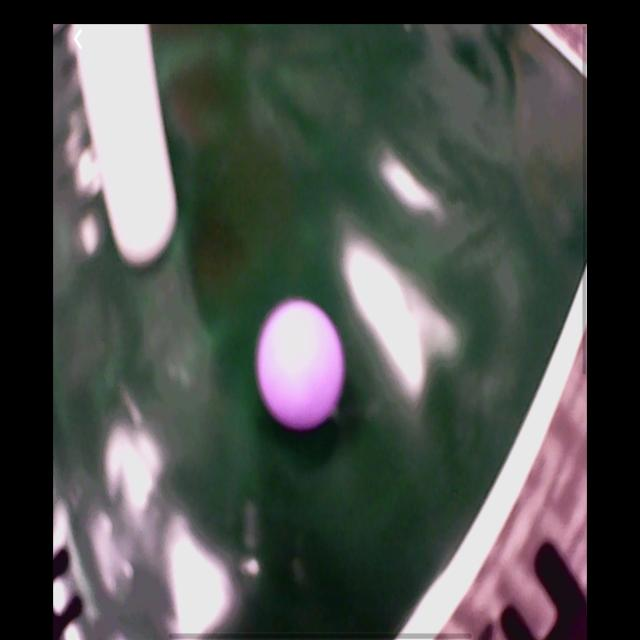ball: (257, 300, 344, 429)
